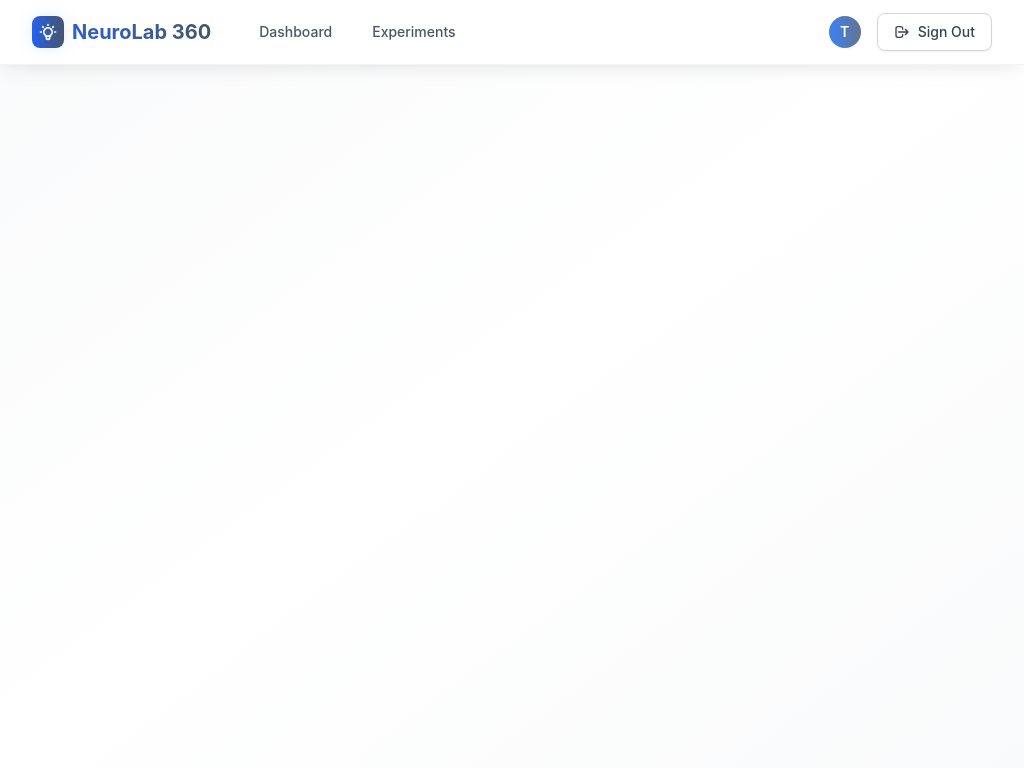
it: Navbar › cancels logout when cancel button is clicked
The width and height of the screenshot is (1024, 768).
Click the button with test id "signout-button": (934, 32) [877,13,992,51]
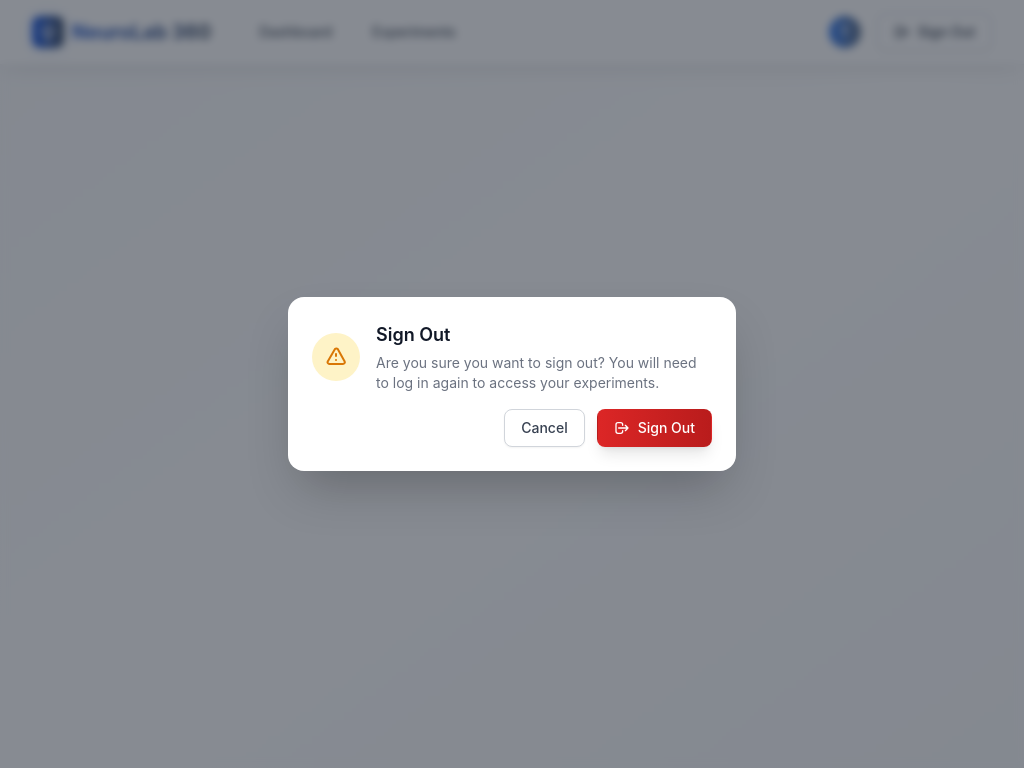
Expected: the element with test id "logout-modal" is shown
Click the button with test id "cancel-logout": (544, 428) [504,409,585,447]
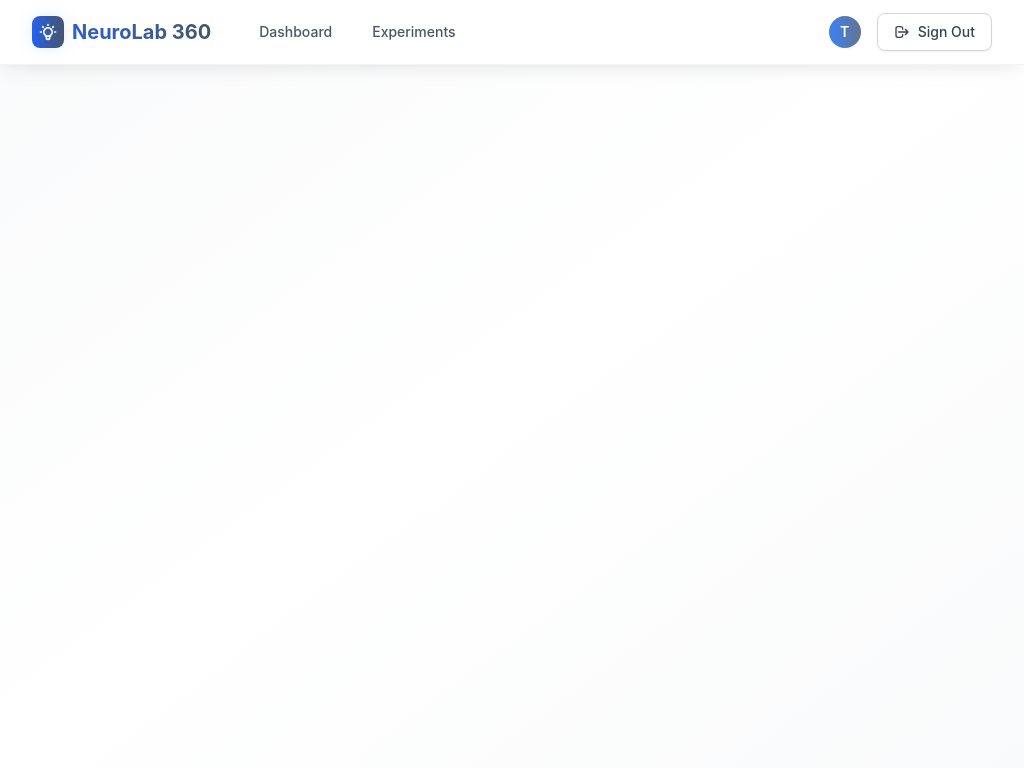
Expected: the element with test id "logout-modal" is gone
